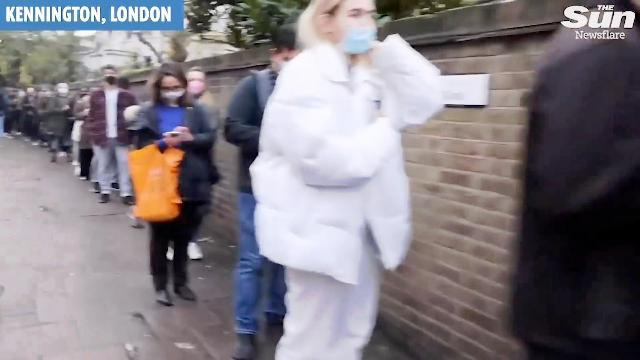berdiri: (256, 4, 454, 360), (130, 62, 216, 314)
